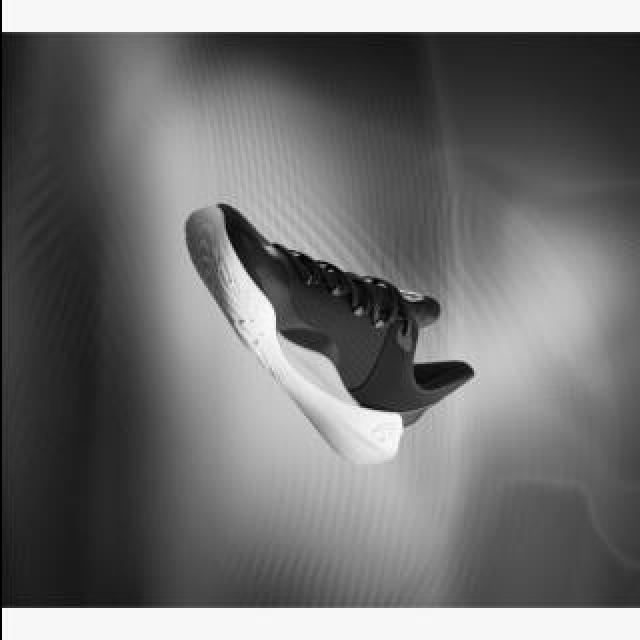shoe: (184, 204, 472, 464)
